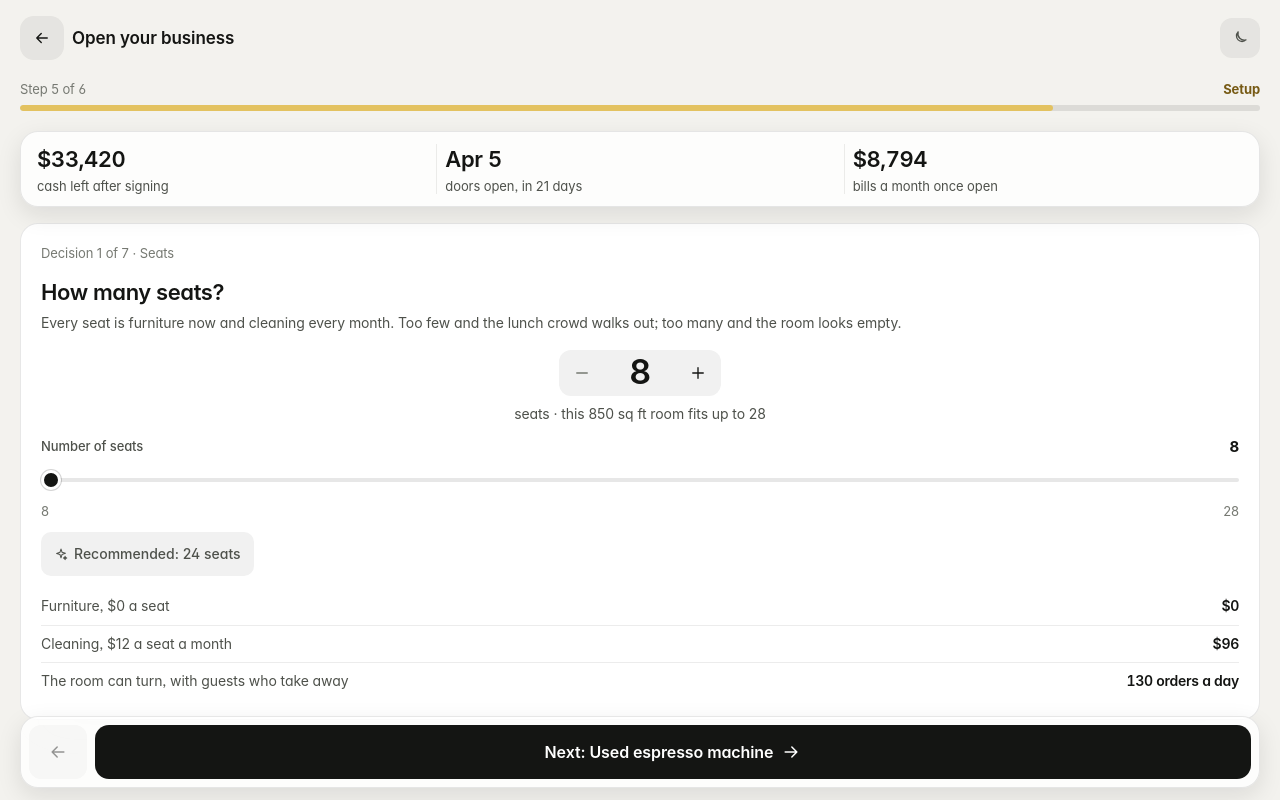
Test: opening decisions screen › starts from the least the law allows: nothing is chosen for the player
This screenshot has width=1280, height=800.
Expected: the text with test id "dx-progress" shows "Decision 1 of 7", [41, 245, 129, 261]
Expected: the heading "How many seats?" is shown, [41, 279, 224, 305]
Click the button "Next: Used espresso machine". click: (673, 752)
box: [95, 725, 1251, 779]
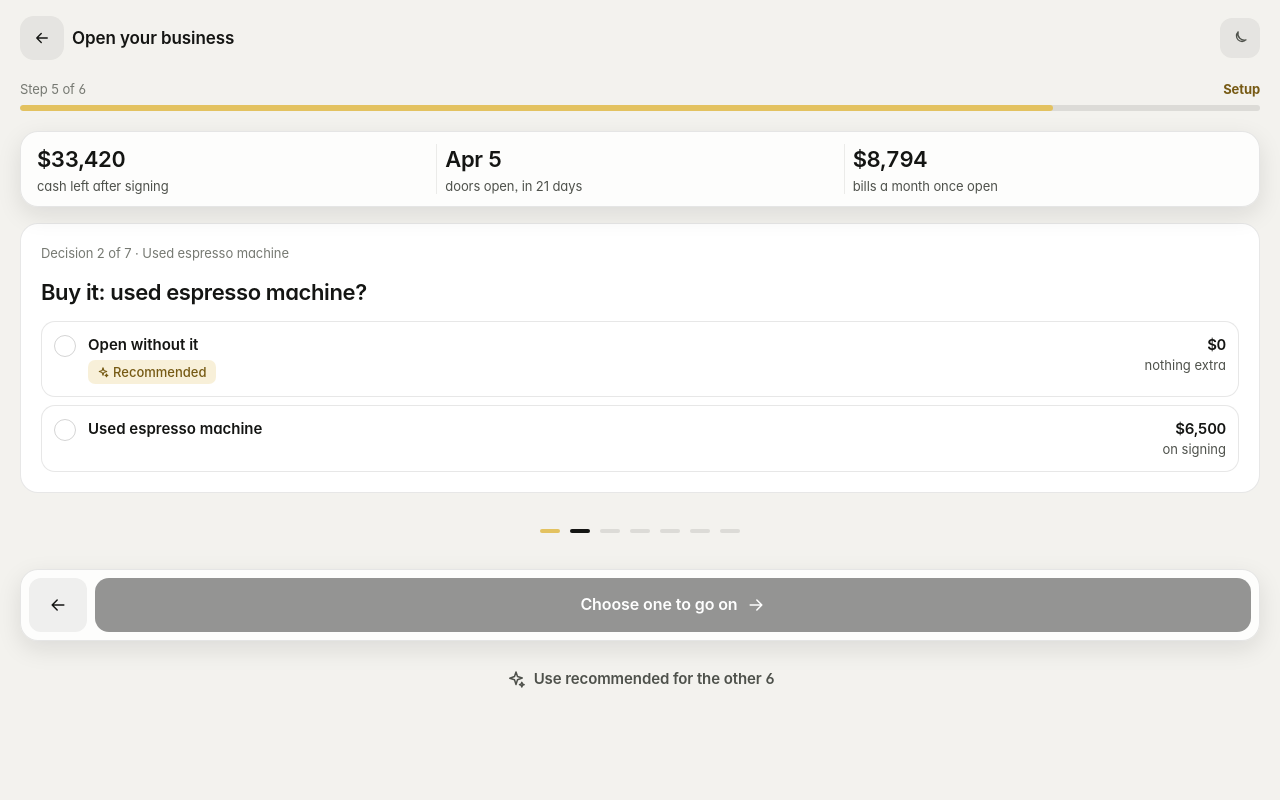
Result: the button "Choose one to go on" is disabled at [95, 578, 1251, 632]
